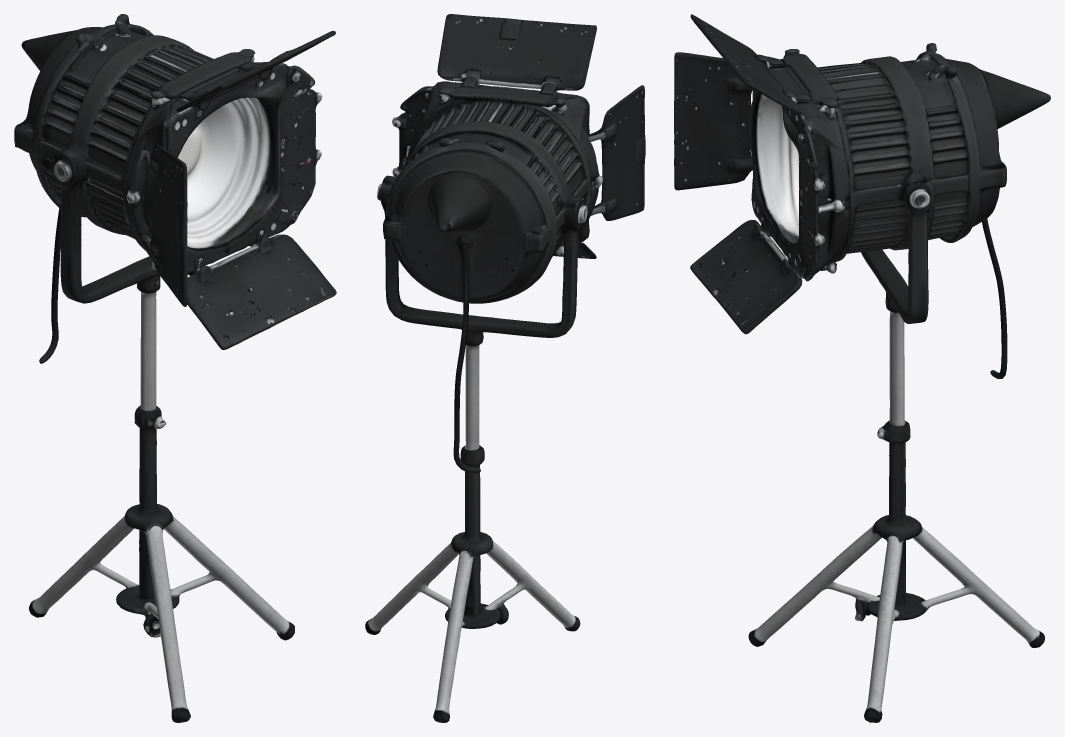
Rendered from menu_spotlight.glb.
3 renders of one model, left to right at view 1: azimuth 30°, elevation 25°; view 2: azimuth 150°, elevation 25°; view 3: azimuth 270°, elevation 25°, orthographic. The views are drawn at different scales.
Visible parts, largest first — view 1: tripo_node_2c8478db-dccf-430f-994c-10ef987ef592; view 2: tripo_node_2c8478db-dccf-430f-994c-10ef987ef592; view 3: tripo_node_2c8478db-dccf-430f-994c-10ef987ef592.
Boxes of the visible parts, x1,y1,x2,y2 form: tripo_node_2c8478db-dccf-430f-994c-10ef987ef592: (14, 14, 336, 722); tripo_node_2c8478db-dccf-430f-994c-10ef987ef592: (365, 14, 645, 722); tripo_node_2c8478db-dccf-430f-994c-10ef987ef592: (674, 14, 1050, 722).
Bounding box in the file's own units: 0.3765 × 0.9778 × 0.5256.
1 material, 1 textured.
